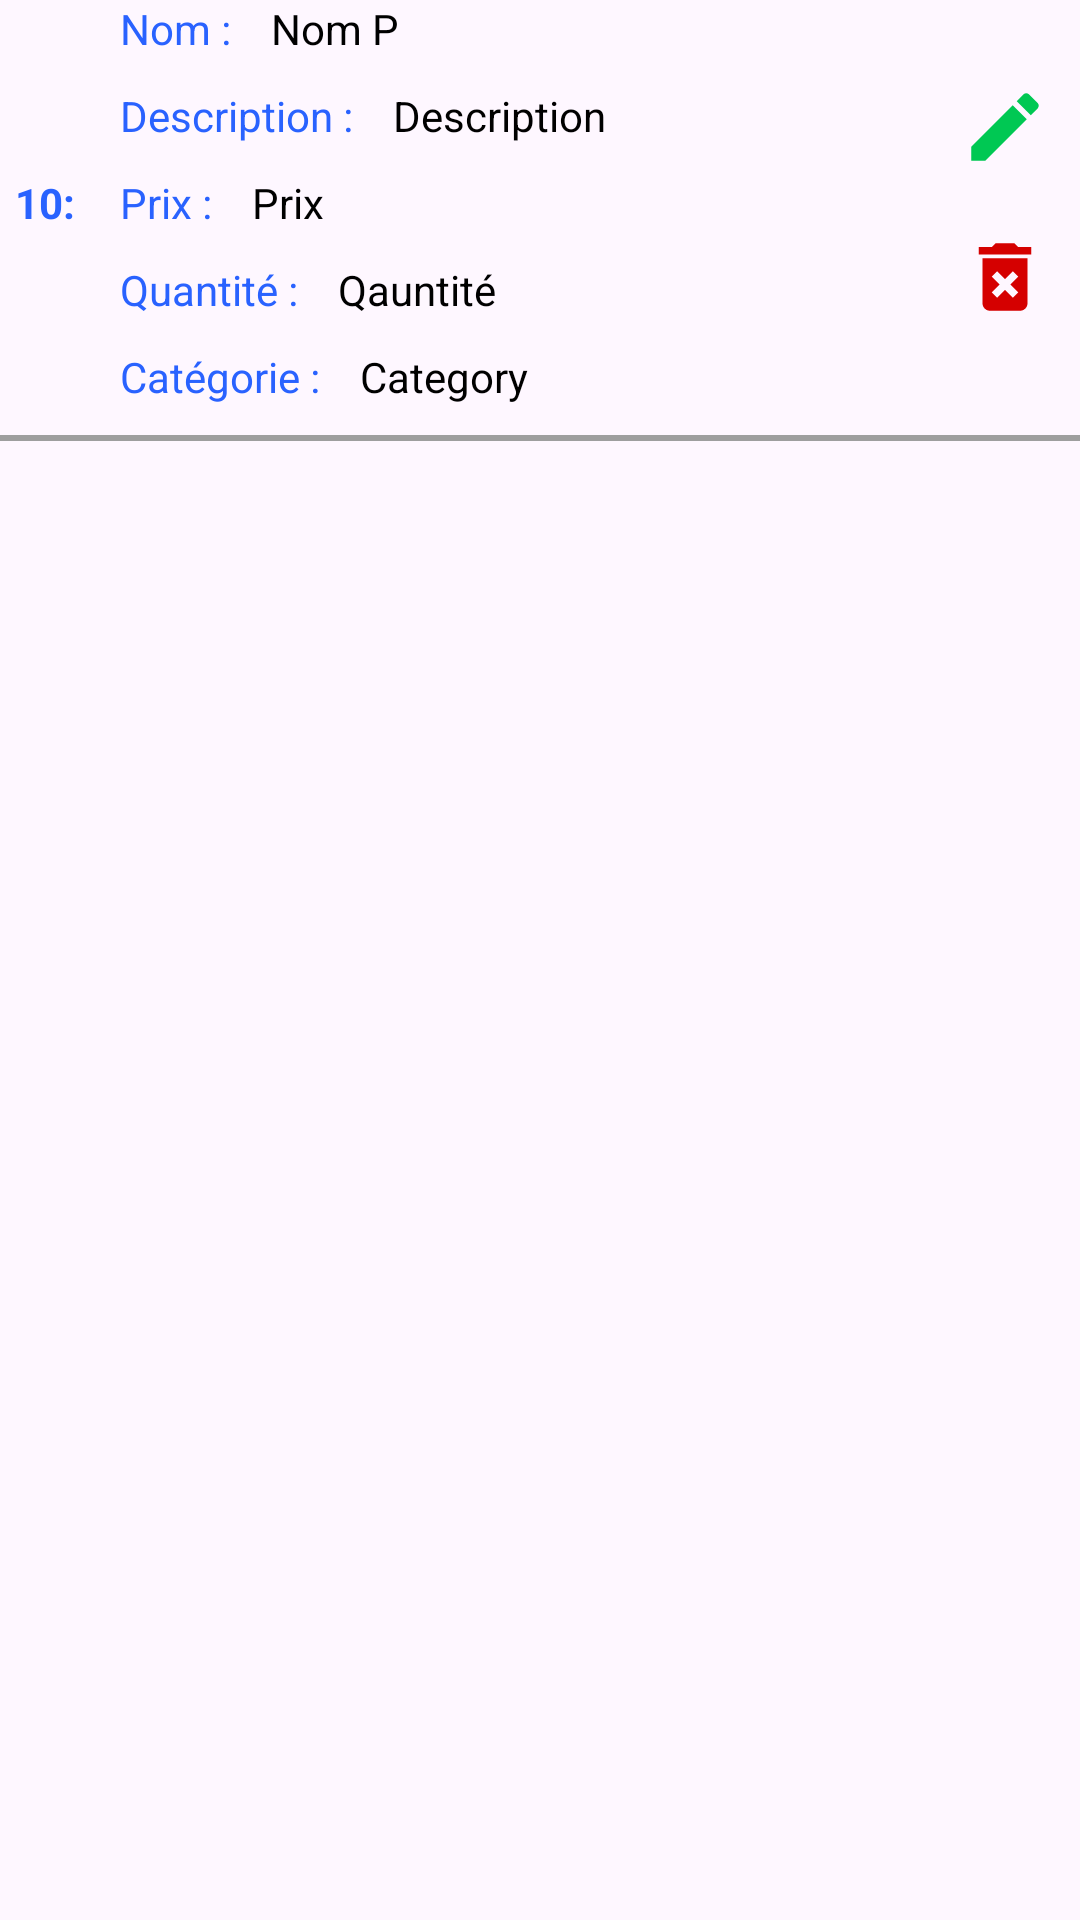

Screen size 1080x1920. Icon name, then its center in pixels as (x,y):
delete forever: (1005,277)
edit: (1005,127)
